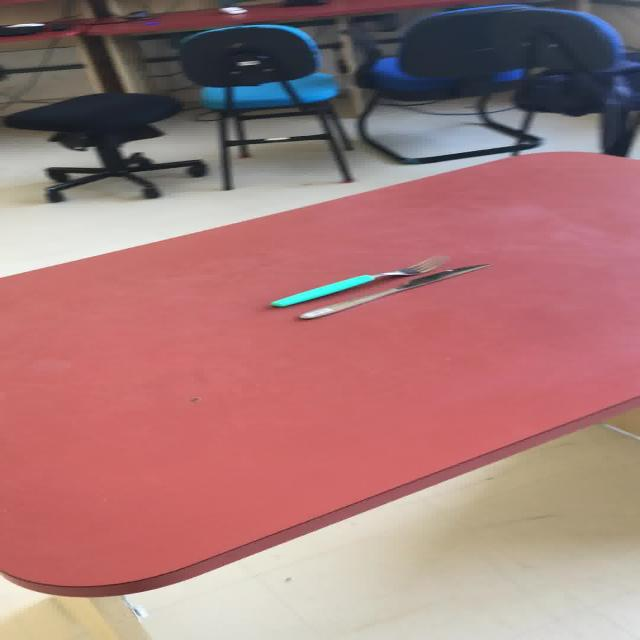fork: (268, 255, 447, 308)
knife fork: (296, 261, 492, 320), (268, 255, 448, 308)
